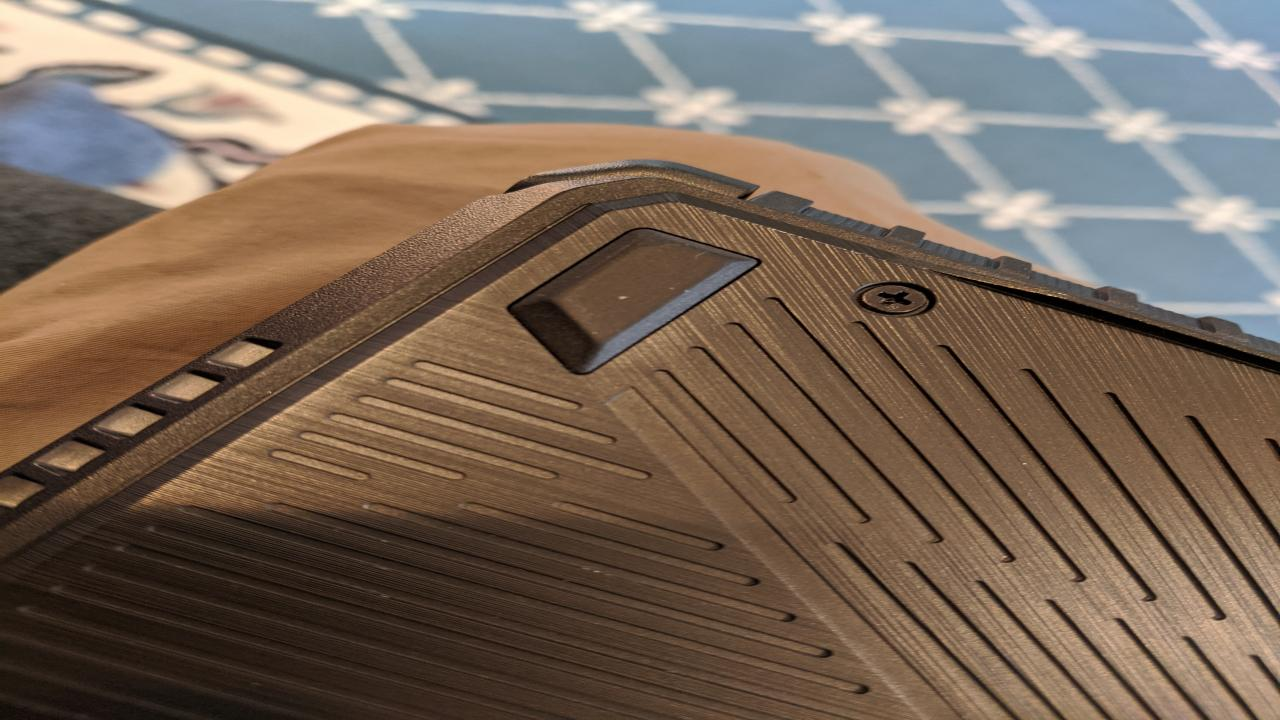CRS: (861, 284, 930, 314)
